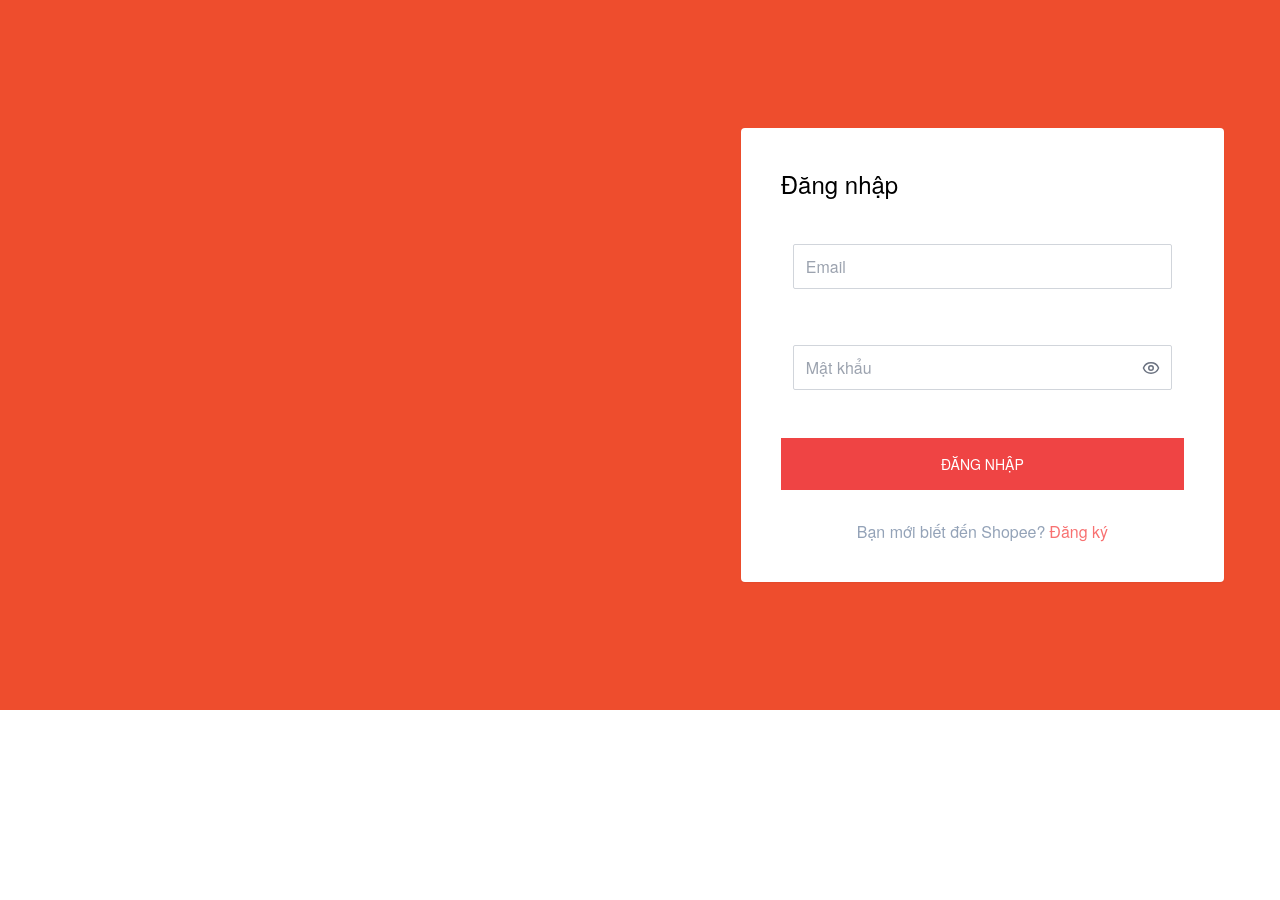
Test: Login page › shows validation error for empty password
Type "test@example.com" into the field with placeholder "Email" at (982, 267), box [793,244,1172,289]
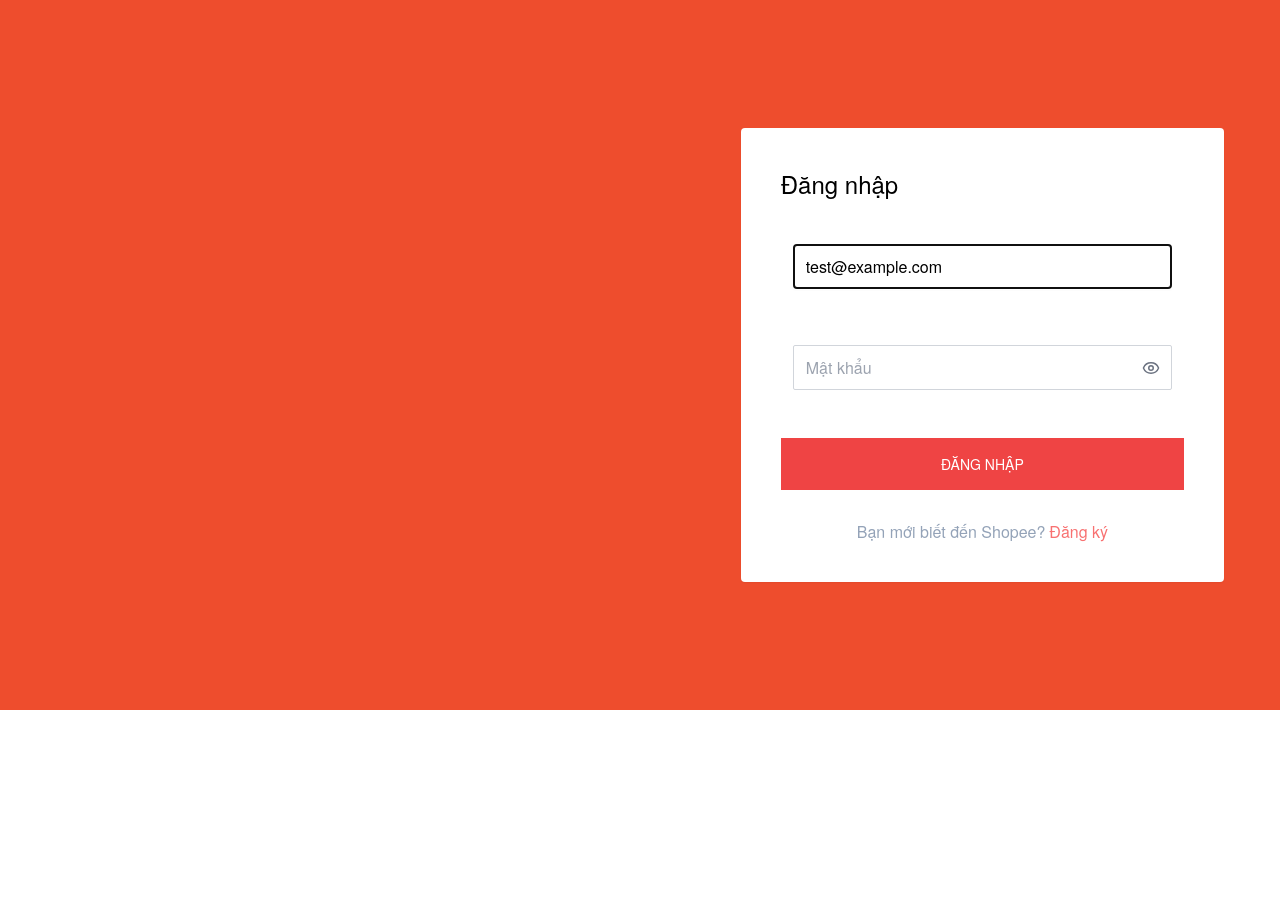
Click the button "Đăng nhập" at (982, 464), box [781,438,1184,490]
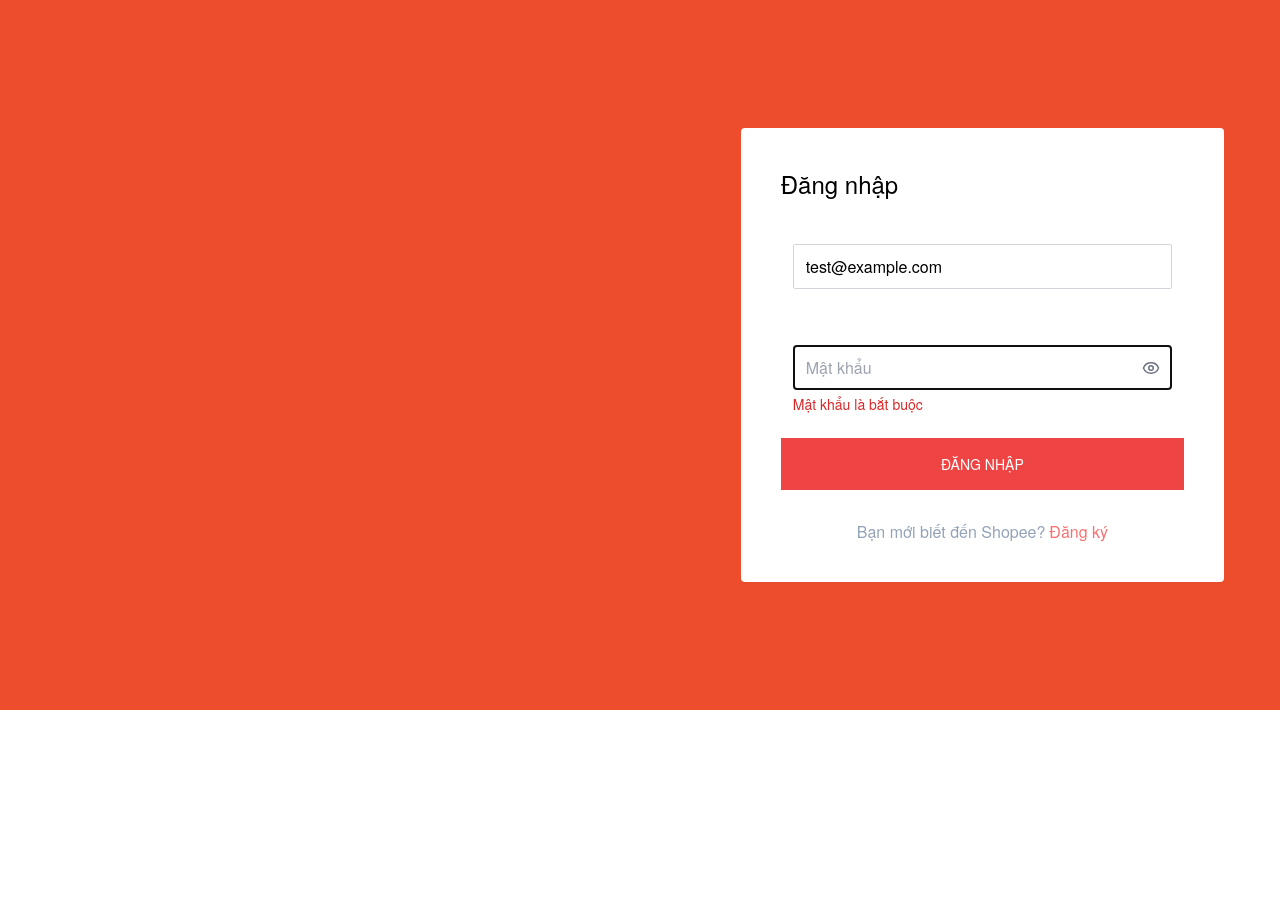
expect the text "Mật khẩu là bắt buộc" is shown: met, box [793,394,923,414]
